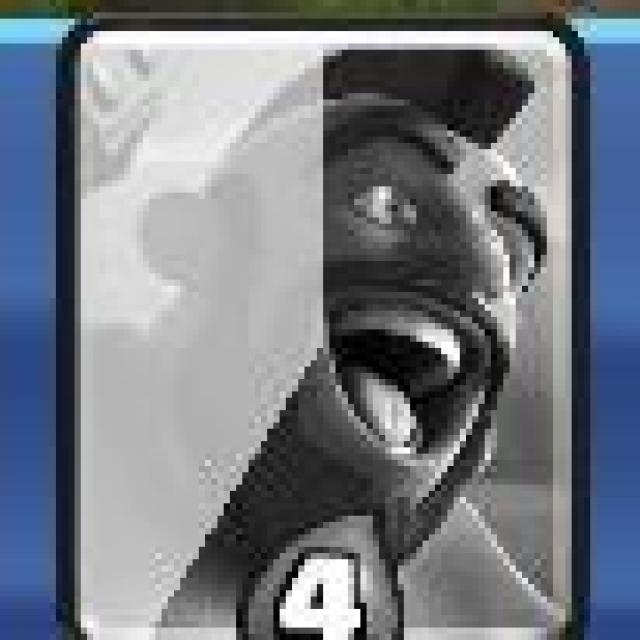Hog_Rider: (54, 16, 584, 638)
